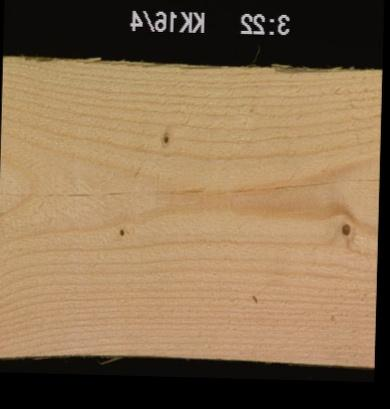small_knot: (339, 218, 351, 236), (161, 131, 170, 144), (117, 224, 126, 236)
wave: (15, 58, 380, 80)
